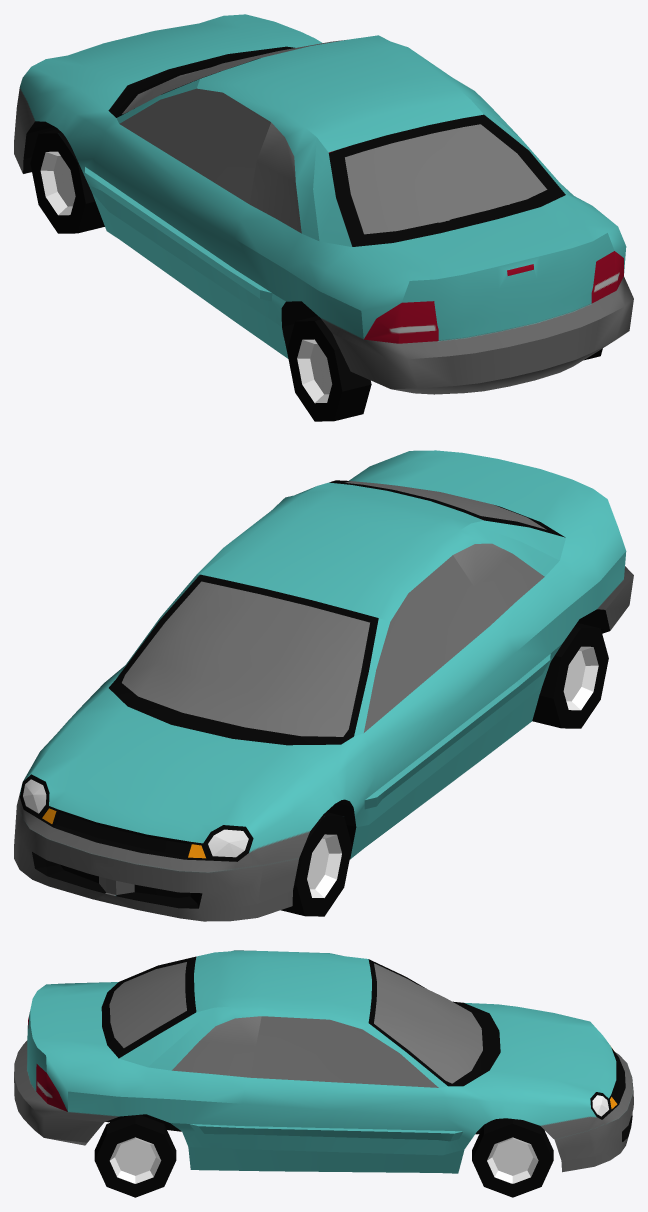
The model's file is car.fbx.
The picture shows the model from 3 angles, top to bottom: view 1: azimuth 30°, elevation 25°; view 2: azimuth 150°, elevation 25°; view 3: azimuth 270°, elevation 25°; orthographic projection. The views are drawn at different scales.
Visible parts, largest first — view 1: neonGeo; view 2: neonGeo; view 3: neonGeo.
Part boxes in pixels (x1=…): neonGeo: x1=14, y1=14, x2=633, y2=421; neonGeo: x1=14, y1=450, x2=633, y2=921; neonGeo: x1=14, y1=950, x2=633, y2=1197.
Bounding box in the file's own units: 12.58 × 9.76 × 31.38.
